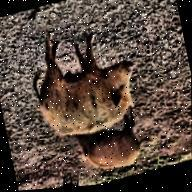boar: (27, 17, 159, 155), (67, 108, 154, 187)
